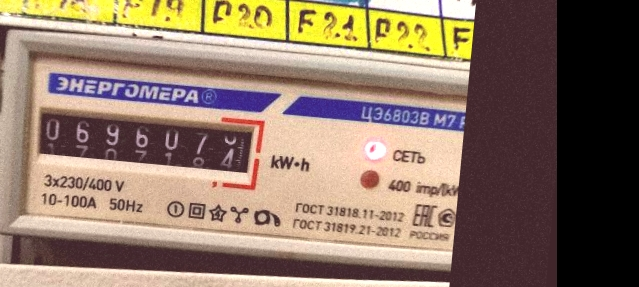0: (42, 115, 61, 140), (162, 124, 179, 150)
4: (217, 144, 235, 170)
6: (132, 122, 151, 148), (72, 118, 91, 143)
7: (191, 129, 209, 156)
9: (102, 120, 120, 146)
screen: (21, 91, 268, 187)
